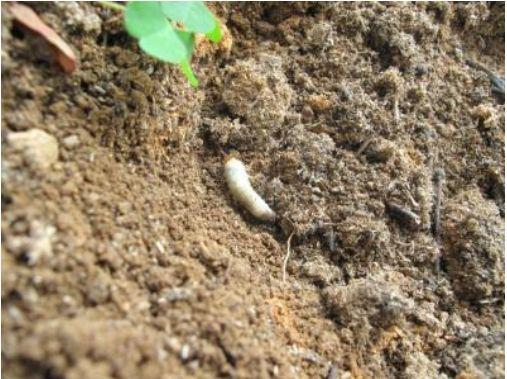grub: (218, 156, 280, 222)
